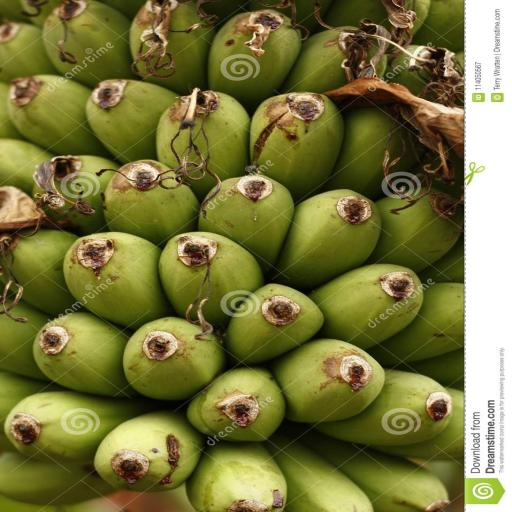banana-unripe: (0, 0, 462, 512)
